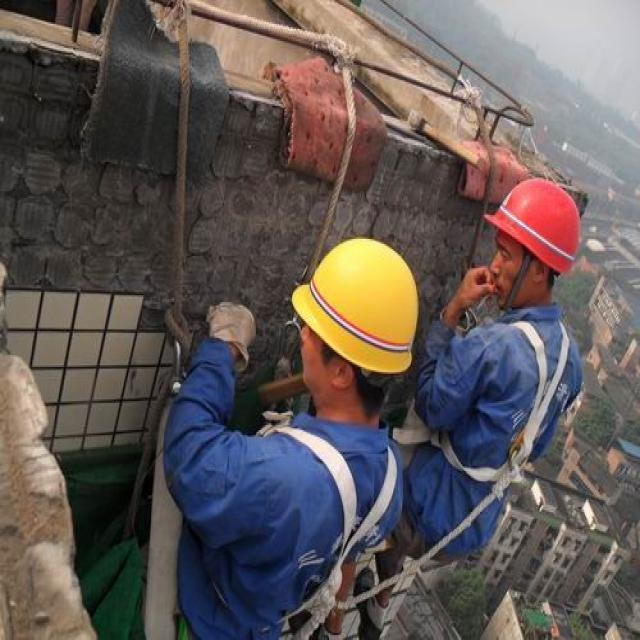Arnes_seguridad: (244, 398, 402, 638), (434, 305, 573, 502)
